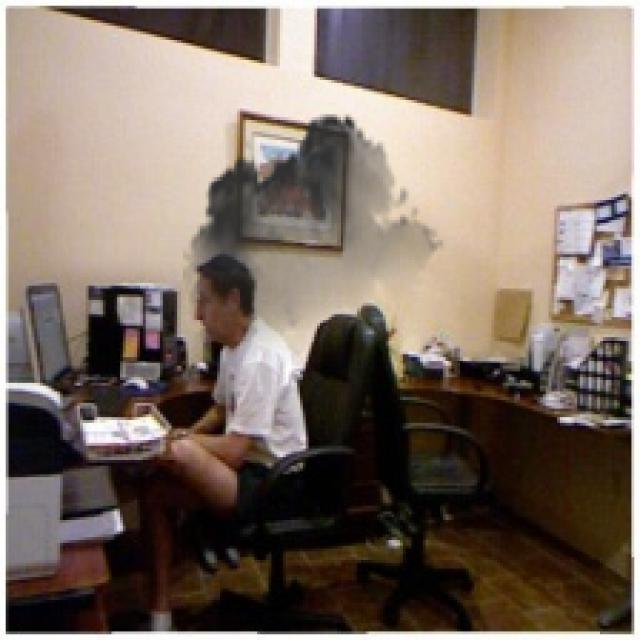Smoke: (183, 102, 446, 372)
